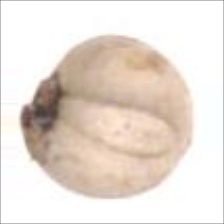L5: (57, 93, 185, 161), (16, 68, 66, 165), (180, 88, 195, 151)
L6: (15, 34, 197, 200)
